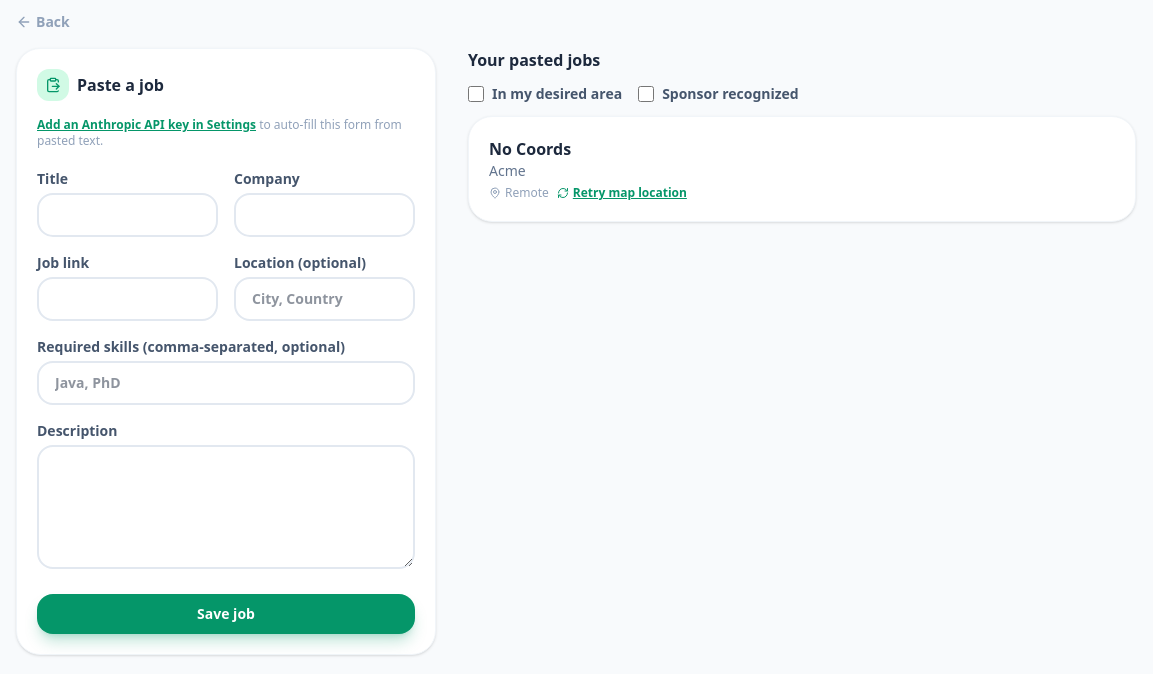
it: Jobs › retries geocoding and updates the job on success
Click the button "Retry map location". click: (622, 193)
box: [557,185,687,201]
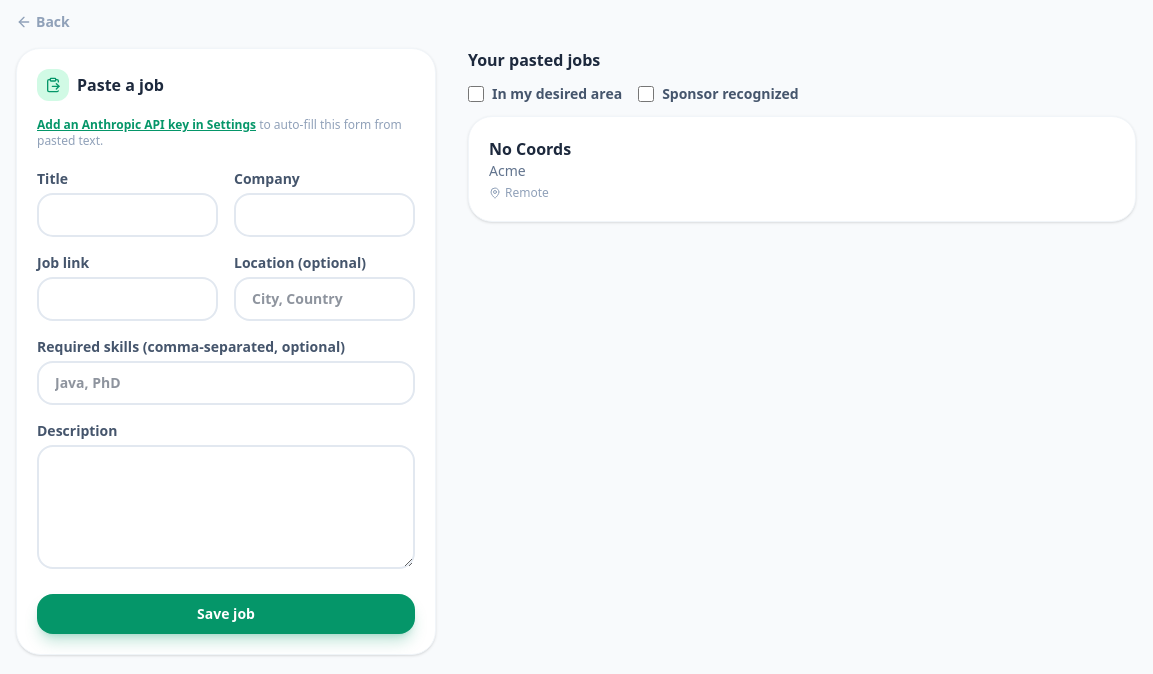
Now the button "Retry map location" is gone
